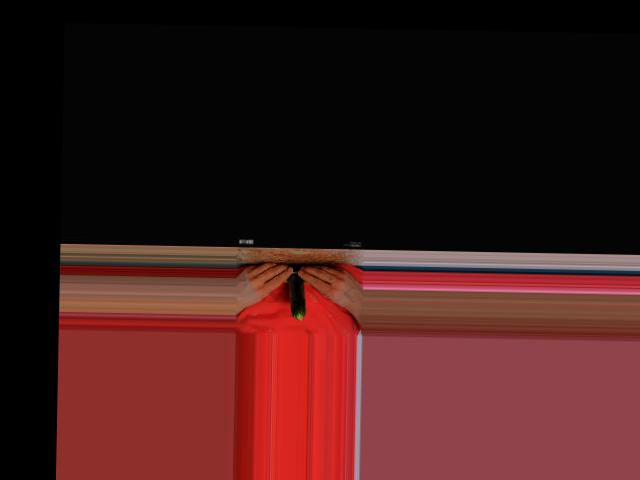cucumber: (288, 264, 307, 319)
